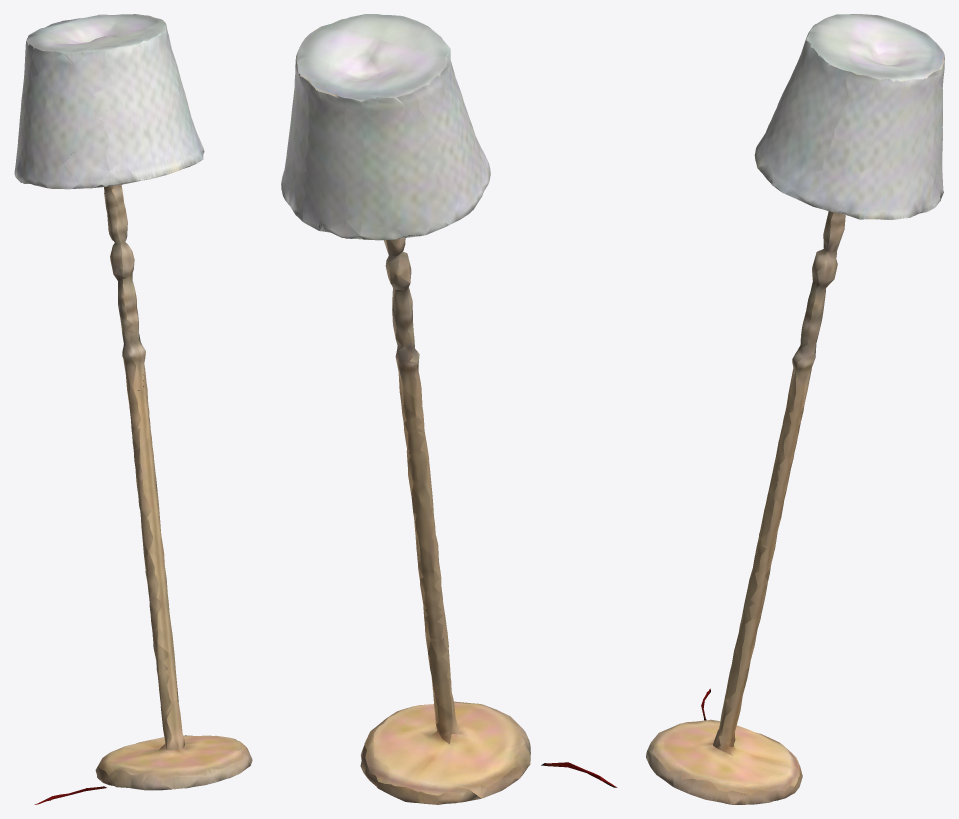
3 views of the same model, side by side, from view 1: azimuth 30°, elevation 25°; view 2: azimuth 150°, elevation 25°; view 3: azimuth 270°, elevation 25° (orthographic). The views are drawn at different scales.
Visible parts, largest first — view 1: world; view 2: world; view 3: world.
Part boxes in pixels (bbox=[...]): world: bbox=[14, 14, 252, 804]; world: bbox=[281, 14, 617, 804]; world: bbox=[646, 14, 944, 804].
Size of the model in its own units: 0.3375 by 1.02 by 0.369.
Materials: 1 (1 with a texture image).
